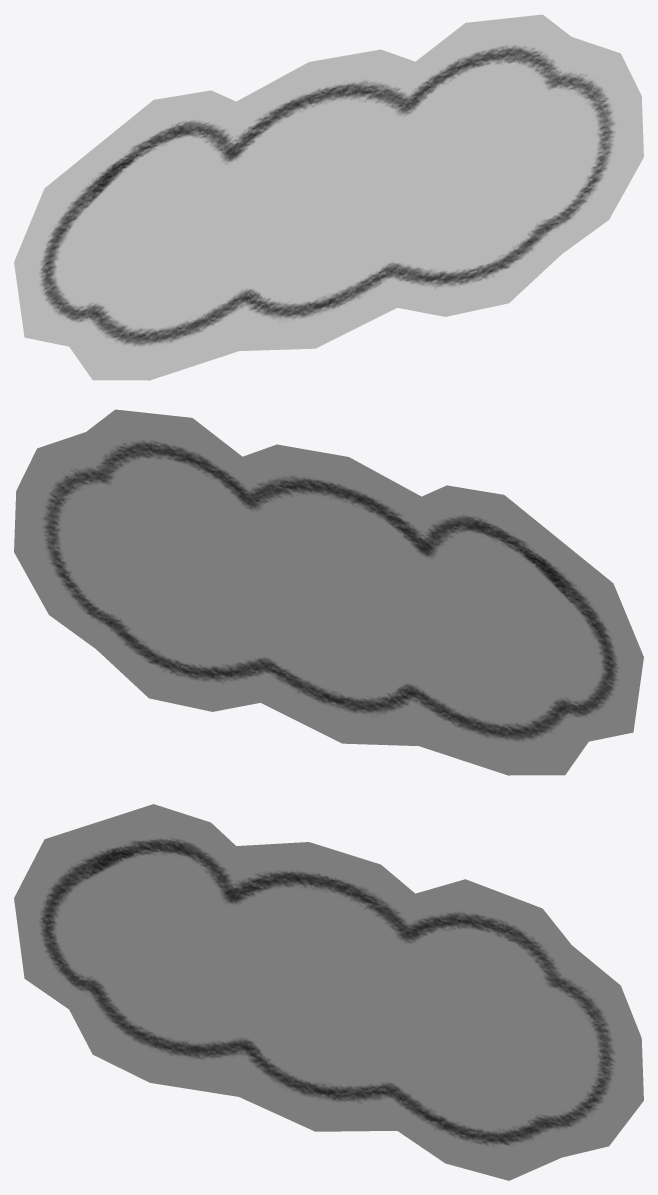
File: Moln2.fbx
The picture shows the model from 3 angles, top to bottom: view 1: azimuth 30°, elevation 25°; view 2: azimuth 150°, elevation 25°; view 3: azimuth 330°, elevation 25°; orthographic projection.
Visible parts, largest first — view 1: Moln2; view 2: Moln2; view 3: Moln2.
Boxes of the visible parts, box(x1,y1,x2,y2) form: Moln2: box(14, 14, 643, 380); Moln2: box(14, 409, 643, 775); Moln2: box(14, 804, 643, 1180).
Bounding box in the file's own units: 34.22 × 15.11 × 2.46e-06.
Materials: 1 (1 with a texture image).
